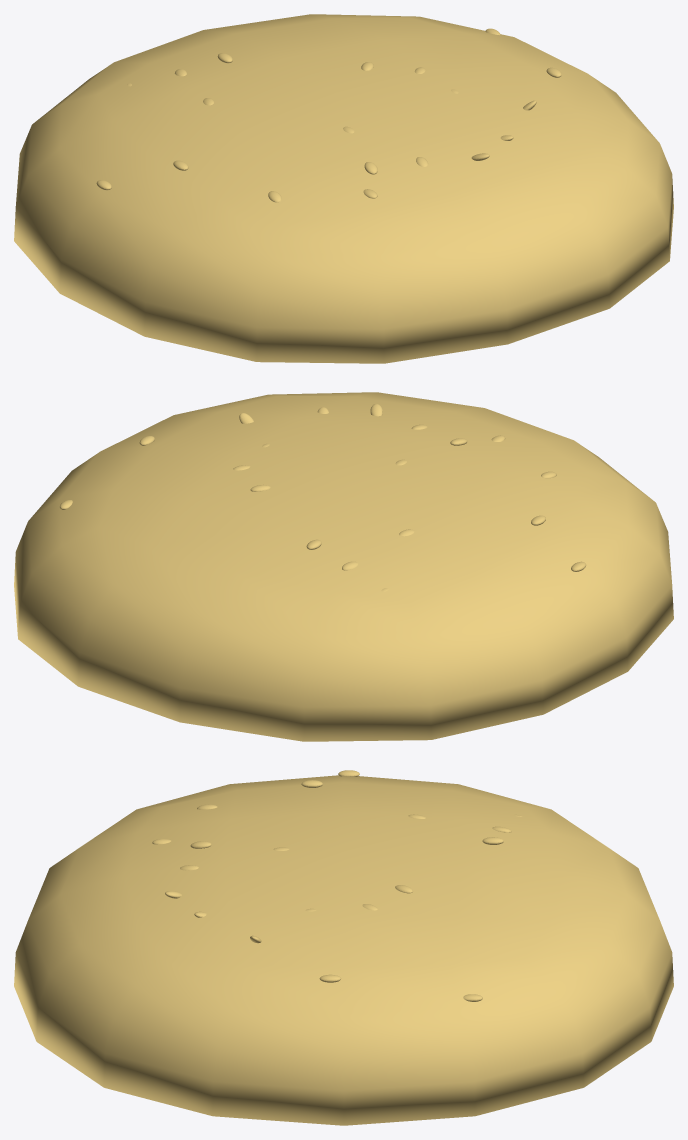
File: Hamburger-Bread01.fbx
The picture shows the model from 3 angles, top to bottom: view 1: azimuth 30°, elevation 25°; view 2: azimuth 150°, elevation 25°; view 3: azimuth 270°, elevation 25°; orthographic projection.
Visible parts, largest first — view 1: Bread.001; view 2: Bread.001; view 3: Bread.001.
Part boxes in pixels (x1,y1,x2,y2): Bread.001: (14, 14, 673, 363); Bread.001: (14, 392, 673, 741); Bread.001: (14, 770, 673, 1125).
Size of the model in its own units: 183 by 39.02 by 183.
